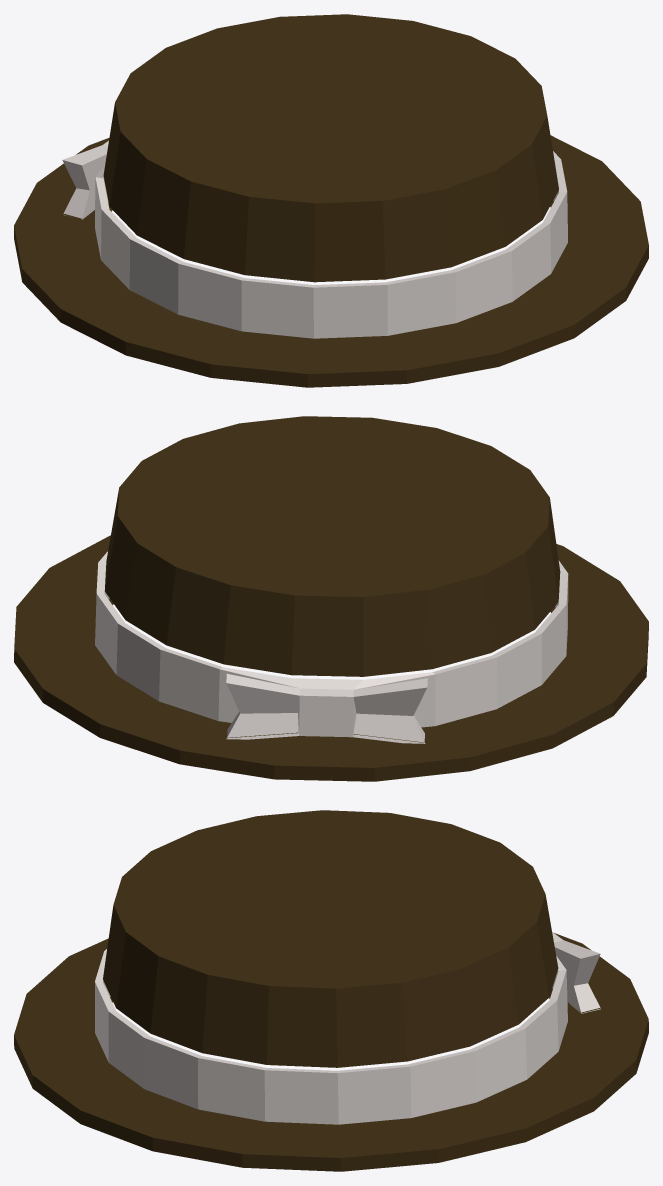
File: strawboater.fbx
3 renders of one model, top to bottom at view 1: azimuth 30°, elevation 25°; view 2: azimuth 150°, elevation 25°; view 3: azimuth 270°, elevation 25°, orthographic.
Visible parts, largest first — view 1: Circle.009, Circle.008; view 2: Circle.009, Circle.008; view 3: Circle.009, Circle.008.
Boxes of the visible parts, x1,y1,x2,y2 form: Circle.009: [14, 14, 648, 387]; Circle.008: [62, 140, 567, 338]; Circle.009: [14, 416, 648, 781]; Circle.008: [95, 551, 568, 743]; Circle.009: [14, 810, 648, 1171]; Circle.008: [95, 932, 600, 1124].
Bounding box in the file's own units: 73.99 × 19.12 × 74.
